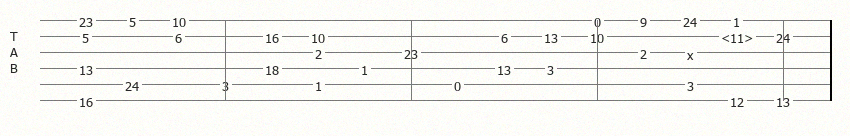0: (454, 78, 465, 91), (594, 14, 605, 27)
1: (315, 78, 326, 91), (361, 62, 372, 75), (733, 14, 744, 27)
10: (172, 14, 190, 27), (311, 30, 329, 43), (590, 30, 608, 43)
12: (730, 94, 748, 107)
13: (79, 62, 97, 75), (497, 62, 515, 75), (544, 30, 562, 43), (776, 94, 794, 107)
16: (79, 94, 97, 107), (265, 30, 283, 43)
18: (265, 62, 283, 75)
2: (315, 46, 326, 59), (640, 46, 651, 59)
23: (79, 14, 97, 27), (404, 46, 422, 59)
24: (125, 78, 143, 91), (683, 14, 701, 27), (776, 30, 794, 43)
3: (222, 78, 233, 91), (547, 62, 558, 75), (687, 78, 698, 91)
5: (82, 30, 93, 43), (129, 14, 140, 27)
6: (175, 30, 186, 43), (501, 30, 512, 43)
9: (640, 14, 651, 27)
harmonic: (721, 30, 757, 43)
x: (687, 47, 698, 58)
